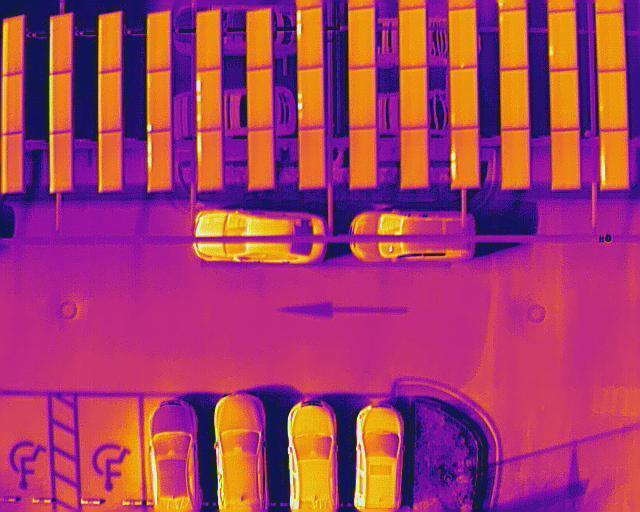Cell: (547, 11, 576, 71), (147, 70, 170, 130)
Cell-Multi: (297, 67, 324, 130), (196, 70, 222, 131)
No-Anomaly: (448, 68, 479, 129), (501, 69, 530, 132), (347, 66, 376, 129), (499, 9, 528, 71), (550, 70, 579, 131), (598, 71, 627, 132), (596, 12, 625, 72), (399, 66, 427, 128), (501, 128, 530, 187), (551, 131, 580, 189), (448, 9, 476, 69), (348, 6, 375, 68), (349, 128, 376, 189), (398, 7, 425, 68), (400, 128, 427, 188), (248, 127, 274, 188), (298, 128, 324, 189), (246, 10, 271, 71), (248, 67, 272, 130), (196, 10, 220, 71), (99, 71, 122, 133), (147, 12, 171, 71), (98, 14, 121, 72), (2, 72, 23, 135), (2, 16, 24, 76), (99, 133, 122, 190), (49, 16, 71, 75), (49, 134, 71, 193), (49, 73, 70, 134), (1, 132, 21, 193)
Unclassified: (450, 127, 479, 188), (600, 128, 628, 190), (296, 8, 322, 68), (197, 128, 222, 190), (148, 131, 171, 190)
